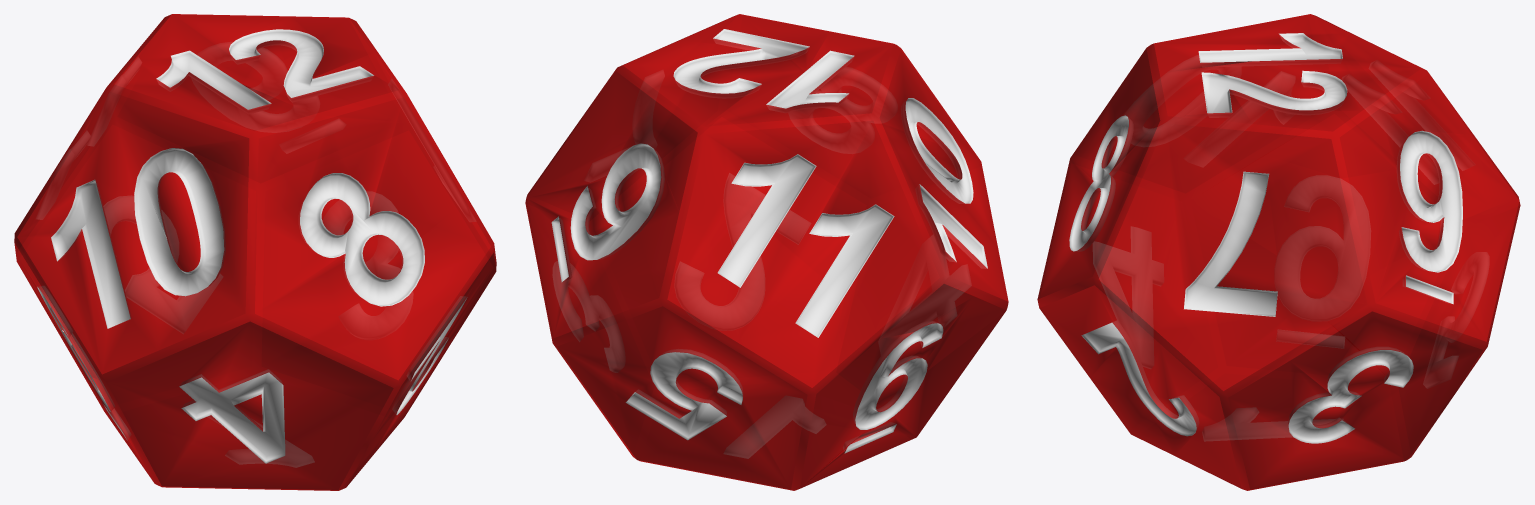
3 renders of one model, left to right at view 1: azimuth 30°, elevation 25°; view 2: azimuth 150°, elevation 25°; view 3: azimuth 270°, elevation 25°, orthographic. The views are drawn at different scales.
Visible parts, largest first — view 1: 12_Sided; view 2: 12_Sided; view 3: 12_Sided.
Boxes of the visible parts, left/top/right/bottom form: 12_Sided: left=14, top=14, right=496, bottom=490; 12_Sided: left=525, top=14, right=1008, bottom=490; 12_Sided: left=1037, top=14, right=1520, bottom=490.
Bounding box in the file's own units: 11.65 × 9.79 × 11.93.
